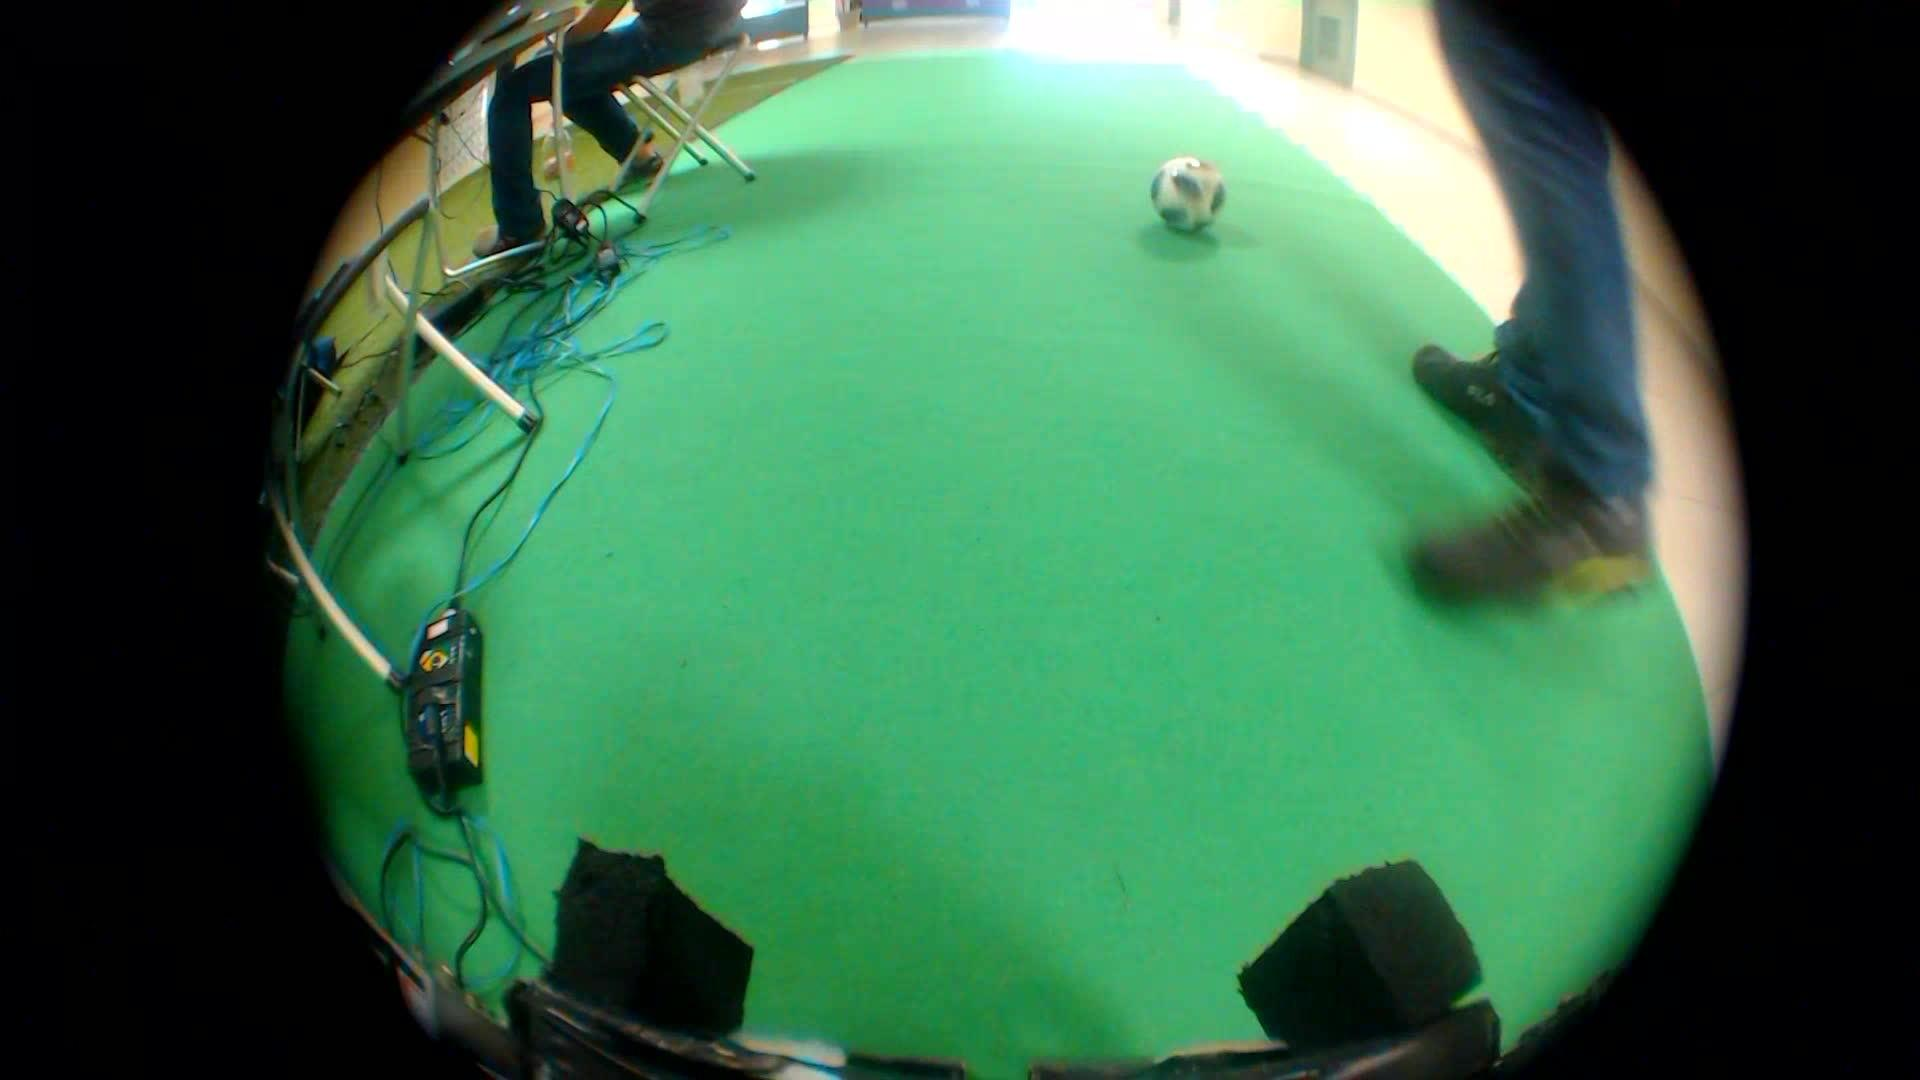ball: (1139, 142, 1225, 236)
